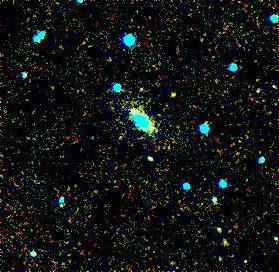star: (157, 81, 187, 111)
